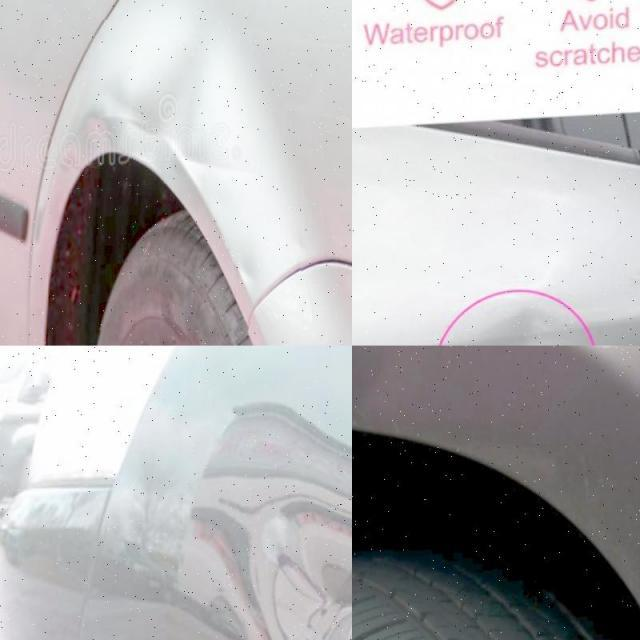car damage: (358, 346, 640, 567), (184, 151, 337, 302), (92, 4, 233, 153), (202, 397, 361, 525), (236, 500, 358, 639), (174, 499, 255, 598), (469, 303, 587, 349), (0, 414, 39, 530), (23, 378, 46, 412)
